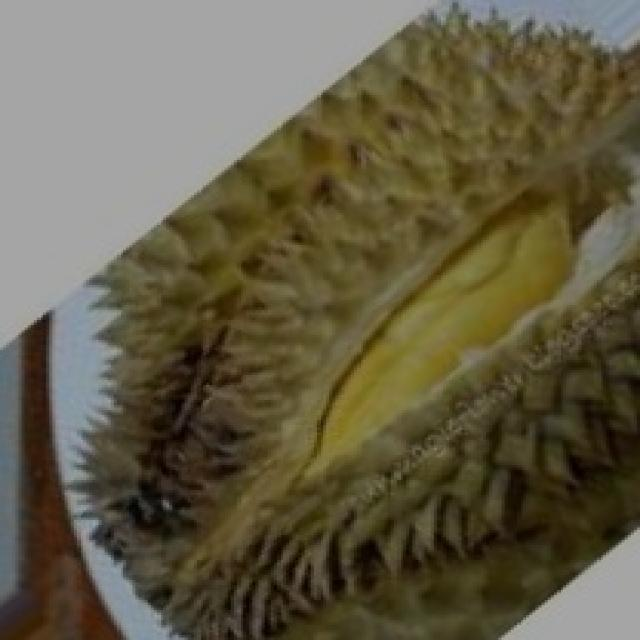fruit: (21, 227, 393, 640), (292, 267, 636, 640)
